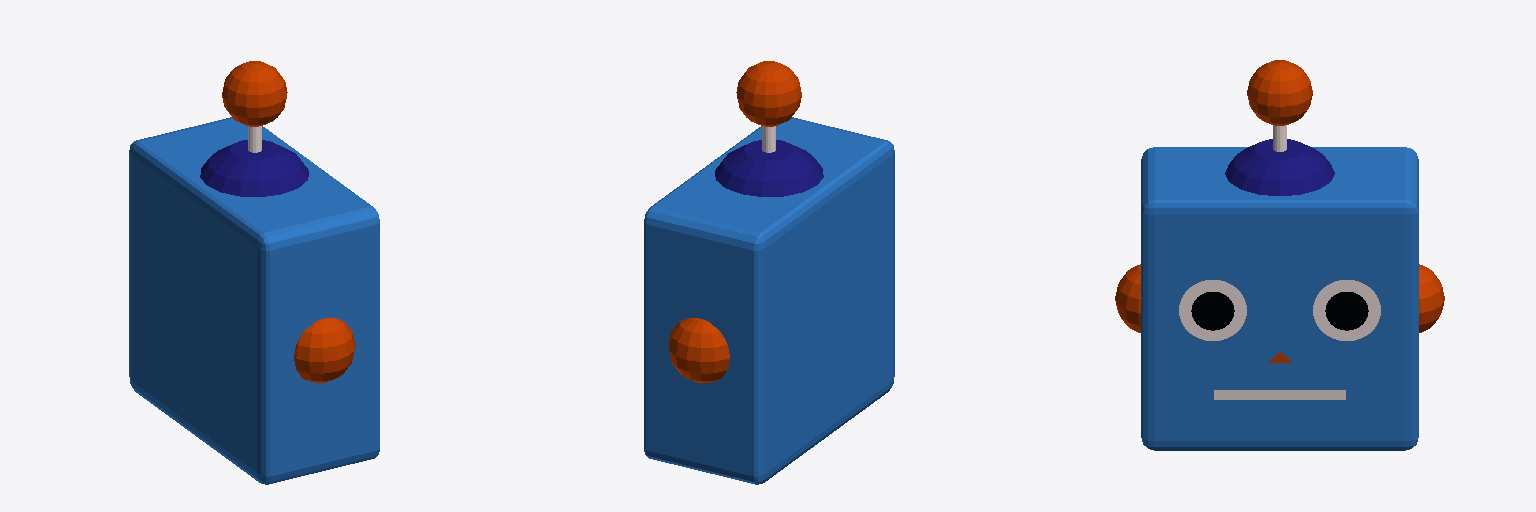
Rendered from robot_head.obj.
3 views of the same model, side by side, from view 1: azimuth 30°, elevation 25°; view 2: azimuth 150°, elevation 25°; view 3: azimuth 270°, elevation 25° (orthographic).
Parts seen in each view (by area): view 1: Cube.001, Sphere.001, Sphere.003, Sphere; view 2: Cube.001, Sphere.001, Sphere.003, Sphere; view 3: Cube.001, Sphere.001, Circle, Sphere.003, Circle.001, Sphere, Plane.
Part boxes in pixels (bbox=[...]): Cube.001: bbox=[129, 117, 379, 484]; Sphere.001: bbox=[200, 140, 308, 196]; Sphere.003: bbox=[222, 61, 287, 126]; Sphere: bbox=[294, 318, 355, 383]; Cube.001: bbox=[644, 117, 894, 484]; Sphere.001: bbox=[715, 140, 823, 196]; Sphere.003: bbox=[736, 61, 801, 126]; Sphere: bbox=[668, 318, 729, 383]; Cube.001: bbox=[1141, 147, 1418, 450]; Sphere.001: bbox=[1225, 139, 1334, 195]; Circle: bbox=[1179, 280, 1380, 340]; Sphere.003: bbox=[1247, 60, 1312, 125]; Circle.001: bbox=[1191, 292, 1368, 330]; Sphere: bbox=[1115, 264, 1444, 332]; Plane: bbox=[1214, 390, 1345, 399].
Bounding box in the file's own units: 1.02 × 3.06 × 2.38.